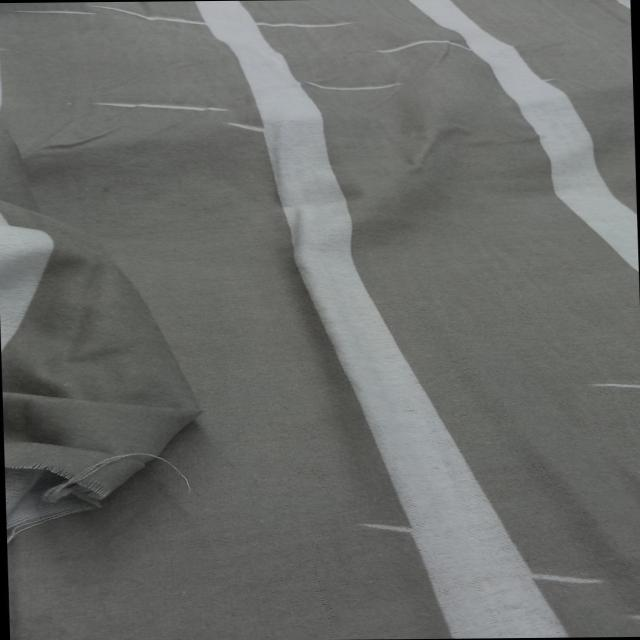selvet: (0, 0, 366, 40), (92, 92, 256, 117), (294, 73, 423, 100), (352, 514, 472, 539), (517, 563, 617, 593), (377, 36, 476, 64), (588, 369, 640, 407), (211, 121, 274, 140), (611, 607, 640, 637)
